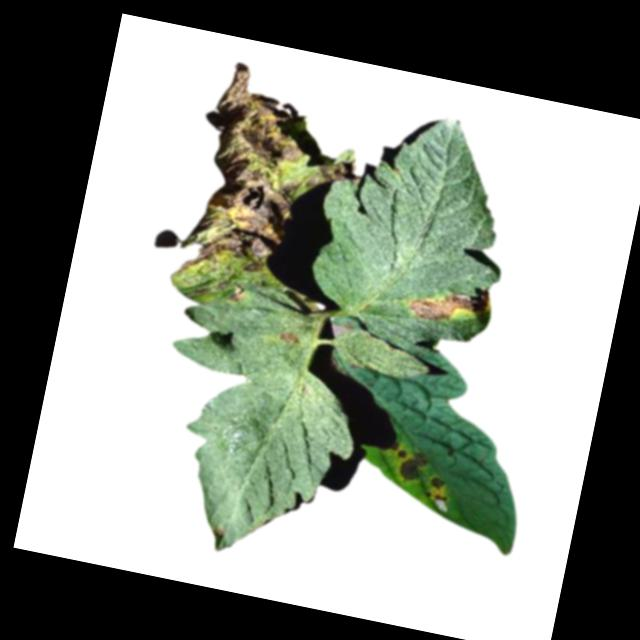Early_blight: (170, 57, 381, 326), (407, 273, 495, 330), (386, 442, 429, 481), (422, 470, 452, 505), (276, 326, 302, 346)
